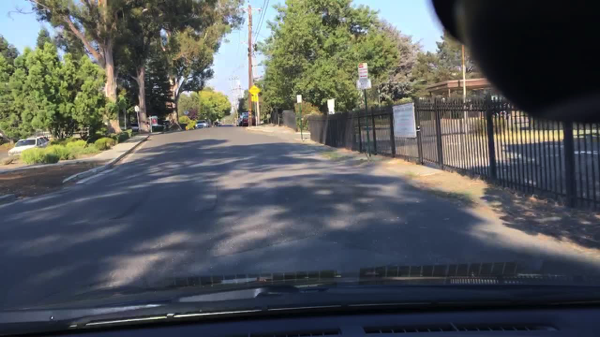car: (8, 136, 49, 155), (490, 101, 509, 118), (120, 122, 140, 132), (241, 115, 257, 127), (235, 112, 247, 127), (195, 119, 209, 128), (212, 118, 221, 127)
traffic sign: (357, 61, 368, 79), (355, 79, 372, 90), (247, 85, 261, 95), (326, 99, 335, 114), (150, 116, 158, 126), (296, 95, 302, 104), (251, 96, 258, 102), (183, 110, 189, 116), (135, 106, 139, 112)
